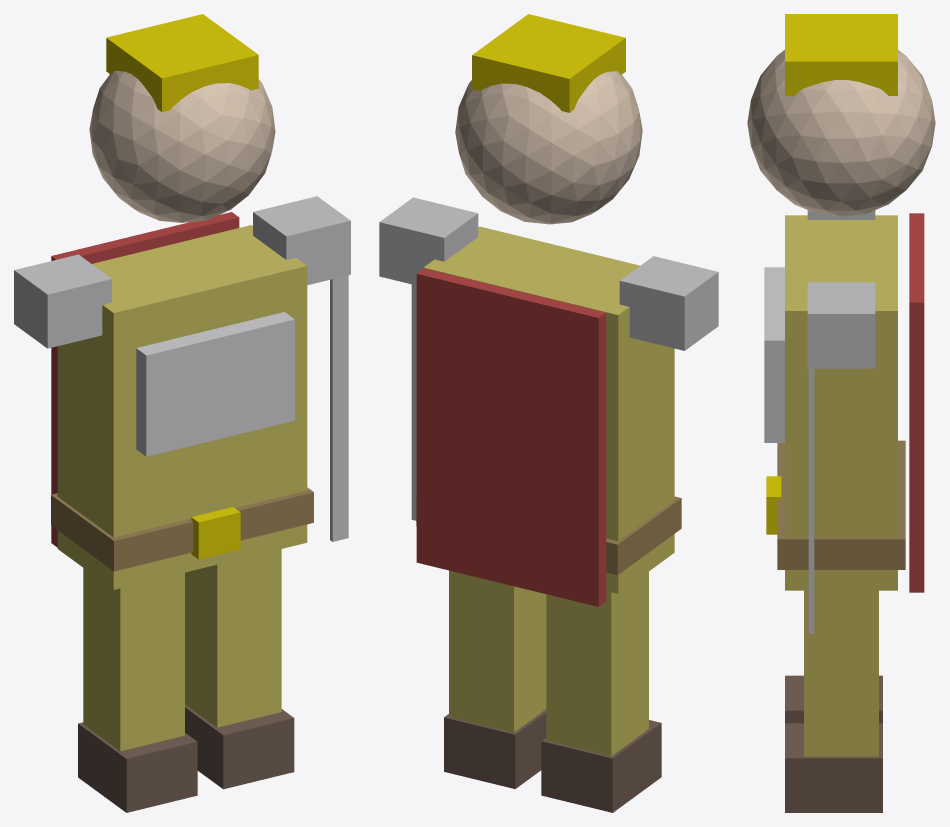
The model's file is commander_m.glb.
The picture shows the model from 3 angles, left to right: view 1: azimuth 30°, elevation 25°; view 2: azimuth 150°, elevation 25°; view 3: azimuth 270°, elevation 25°; orthographic projection.
Parts seen in each view (by area): view 1: geometry_0; view 2: geometry_0; view 3: geometry_0.
Part boxes in pixels (box(x1,y1,x2,y2)): geometry_0: box(14, 14, 350, 812); geometry_0: box(379, 14, 718, 812); geometry_0: box(747, 14, 935, 812).
Bounding box in the file's own units: 0.94 × 2.15 × 0.5.
